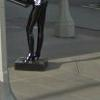Statue: (14, 0, 58, 66)
